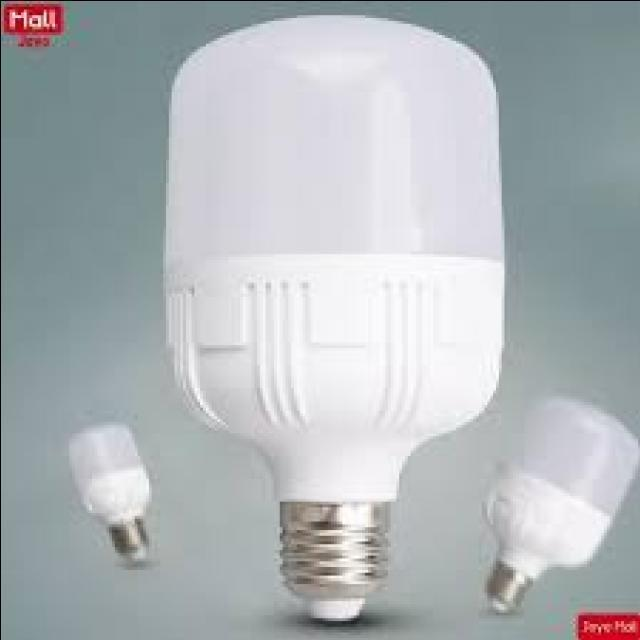light_bulb: (162, 16, 522, 636), (472, 373, 640, 615), (56, 399, 172, 577)
